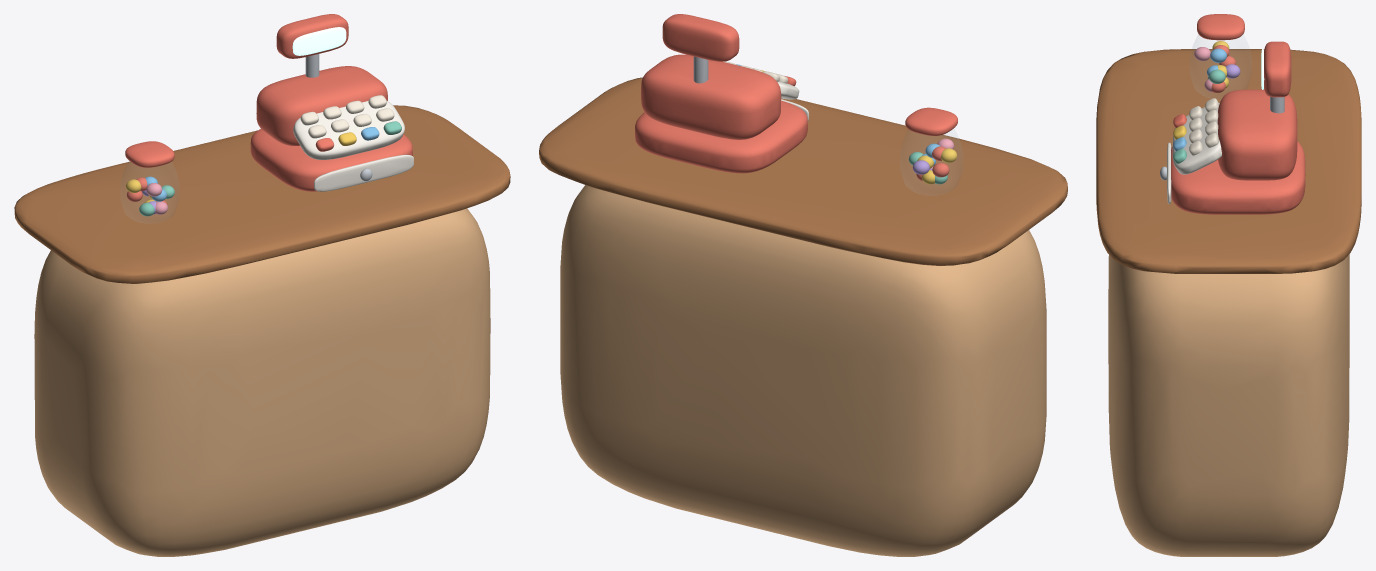
The model's file is vitrina_caja_1.glb.
3 renders of one model, left to right at view 1: azimuth 30°, elevation 25°; view 2: azimuth 150°, elevation 25°; view 3: azimuth 270°, elevation 25°, orthographic. The views are drawn at different scales.
Visible parts, largest first — view 1: mostrador, tapa.007, cuerpo registradora, cajon, teclado, frente cajon, visor, pantalla visor, tapa frasco; view 2: mostrador, tapa.007, cuerpo registradora, cajon, visor, tapa frasco; view 3: mostrador, tapa.007, cuerpo registradora, cajon, visor, teclado, tapa frasco.
Boxes of the visible parts, x1=… form: mostrador: x1=34, y1=208, x2=490, y2=556; tapa.007: x1=14, y1=105, x2=510, y2=283; cuerpo registradora: x1=256, y1=66, x2=387, y2=145; cajon: x1=250, y1=129, x2=412, y2=191; teclado: x1=293, y1=101, x2=404, y2=159; frente cajon: x1=314, y1=154, x2=413, y2=191; visor: x1=276, y1=14, x2=348, y2=58; pantalla visor: x1=292, y1=27, x2=346, y2=55; tapa frasco: x1=125, y1=141, x2=174, y2=167; mostrador: x1=560, y1=185, x2=1046, y2=556; tapa.007: x1=539, y1=77, x2=1067, y2=265; cuerpo registradora: x1=641, y1=54, x2=781, y2=139; cajon: x1=635, y1=100, x2=807, y2=173; visor: x1=662, y1=14, x2=739, y2=61; tapa frasco: x1=905, y1=107, x2=957, y2=135; mostrador: x1=1108, y1=254, x2=1349, y2=556; tapa.007: x1=1096, y1=49, x2=1361, y2=273; cuerpo registradora: x1=1217, y1=89, x2=1297, y2=180; cajon: x1=1171, y1=141, x2=1305, y2=214; visor: x1=1264, y1=41, x2=1291, y2=97; teclado: x1=1172, y1=103, x2=1221, y2=174; tapa frasco: x1=1197, y1=14, x2=1244, y2=40.
Bounding box in the file's own units: 1.28 × 1.31 × 0.6593.
